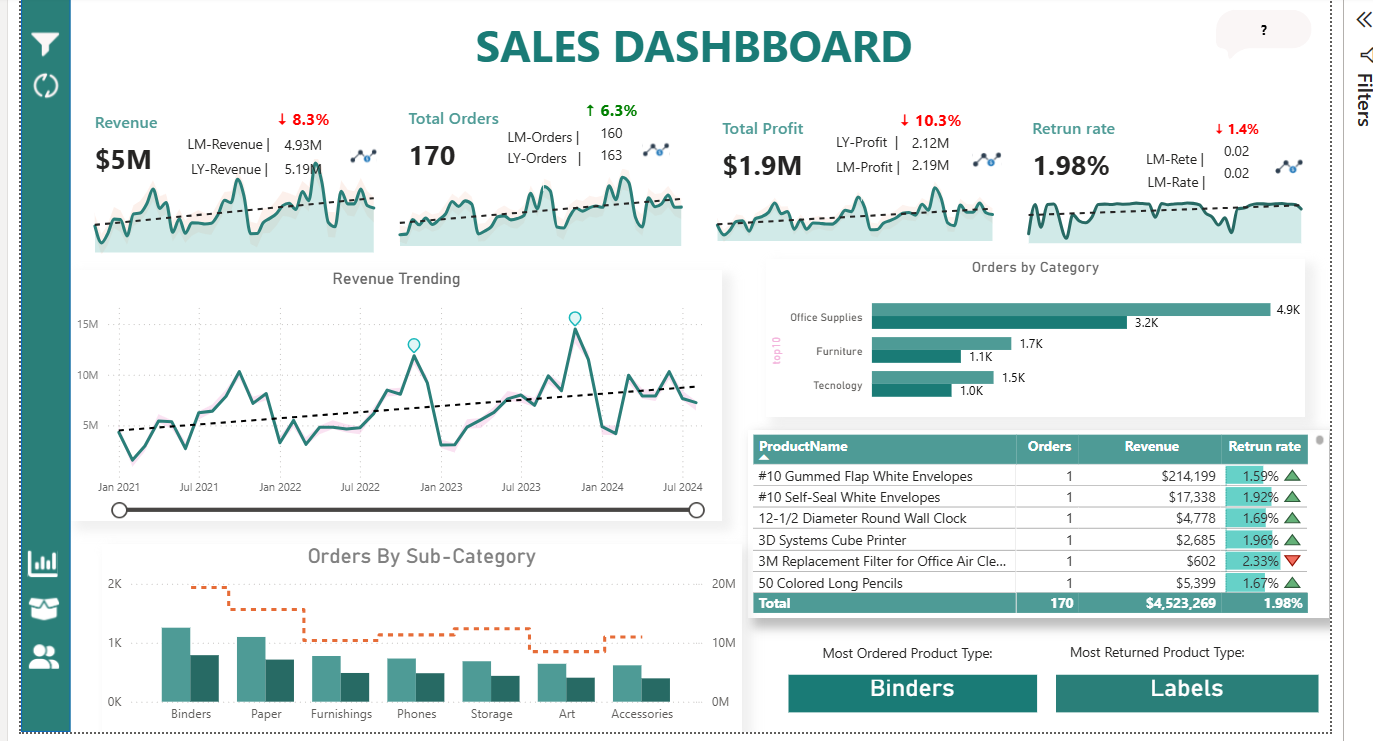

The dashboard page shown, as its layout file describes it:
{"tool":"powerbi","page":{"name":"Dashboard","canvas":[1280,720],"ordinal":0},"visuals":[{"type":"group","id":"g1","title":"Group 2","box":[356.2,83.2,305.4,167.7],"z":0,"group":"g6"},{"type":"group","id":"g2","title":"Group 1","box":[55,88,306.9,168.6],"z":0,"group":"g4"},{"type":"group","id":"g3","title":"Group 3","box":[666.1,92.9,307.8,152.8],"z":0,"group":"g7"},{"type":"lineChart","fields":{"Category":["Calender Lookup.Date Hierarchy.Start of Month"],"Y":["Measure Table.Total Revenue"]},"box":[57.9,146.1,302.9,110.5],"z":0,"group":"g2"},{"type":"lineChart","fields":{"Category":["Calender Lookup.Date Hierarchy.Start of Month"],"Y":["Measure Table.Total Orders"]},"box":[356.2,156.5,305.4,94.3],"z":0,"group":"g1"},{"type":"lineChart","fields":{"Category":["Calender Lookup.Date Hierarchy.Start of Month"],"Y":["Measure Table.Total Profit"]},"box":[666.1,157.5,299.2,88.1],"z":0,"group":"g3"},{"type":"lineChart","fields":{"Category":["Calender Lookup.Date Hierarchy.Start of Month"],"Y":["Measure Table.Retrun rate"]},"box":[971.1,171.8,296.7,77],"z":0,"group":"g5"},{"type":"lineClusteredColumnComboChart","title":"Orders By Sub-Category","fields":{"Category":["Product Sub-Categories  Lookup Table.SubcategoryName"],"Y":["Measure Table.Total Orders","Measure Table.LY-Orders"],"Y2":["Measure Table.Total Profit"]},"box":[79.4,535,625.6,185],"z":0},{"type":"actionButton","box":[2.9,536.7,46.2,37.5],"z":0,"group":"g8"},{"type":"cardVisual","fields":{"Data":["Measure Table.Orders"]},"box":[362.8,83.2,298.6,114],"z":1000,"group":"g1"},{"type":"cardVisual","fields":{"Data":["Measure Table.Total Revenue"]},"box":[55,88,306.9,111.7],"z":1000,"group":"g2"},{"type":"cardVisual","fields":{"Data":["Measure Table.Total Profit"]},"box":[668.2,92.9,305.7,113.7],"z":1000,"group":"g3"},{"type":"cardVisual","fields":{"Data":["Measure Table.Retrun rate"]},"box":[971.9,100.5,300.4,88.1],"z":1000,"group":"g5"},{"type":"textbox","box":[792.4,128.4,105.2,39.1],"z":1000,"group":"g7"},{"type":"textbox","box":[471.2,144.4,110.1,40.4],"z":1000,"group":"g6"},{"type":"textbox","box":[161.2,155.1,110.1,37.9],"z":1000,"group":"g4"},{"type":"lineChart","title":"Revenue  Trending","fields":{"Y":["Measure Table.Total Revenue"],"Category":["Calender Lookup.Start of Month.Variation.Date Hierarchy.Year","Calender Lookup.Start of Month.Variation.Date Hierarchy.Quarter","Calender Lookup.Start of Month.Variation.Date Hierarchy.Month","Calender Lookup.Start of Month.Variation.Date Hierarchy.Day"]},"box":[49.4,267.6,636.7,245.6],"z":1000},{"type":"actionButton","box":[3.7,580.7,45.6,37.8],"z":1000,"group":"g8"},{"type":"group","id":"g4","title":"Group 5","box":[55,88,306.9,168.8],"z":2000},{"type":"textbox","box":[471.2,123.6,110.1,40.4],"z":2000,"group":"g6"},{"type":"textbox","box":[157.6,130.6,110.1,39.1],"z":2000,"group":"g4"},{"type":"textbox","box":[792.4,152.9,105.2,39.1],"z":2000,"group":"g7"},{"type":"actionButton","box":[3.7,627.4,45.6,37.8],"z":2000,"group":"g8"},{"type":"group","id":"g5","title":"Group 3","box":[971.1,100.5,301.2,148.3],"z":3000},{"type":"group","id":"g6","title":"Group 4","box":[356.2,83.2,305.4,167.6],"z":4000},{"type":"textbox","box":[1096.1,145.2,93.1,28.5],"z":5000},{"type":"group","id":"g7","title":"Group 6","box":[666.1,92.9,307.8,152.8],"z":6000},{"type":"textbox","box":[1097.3,167.6,89.4,37.2],"z":7000},{"type":"clusteredBarChart","title":" Orders by Category","fields":{"Category":["Product Categories lookup table.CategoryName"],"Y":["Measure Table.Total Orders","Measure Table.LY-Orders"]},"box":[728.6,256.9,527.5,155.2],"z":8000},{"type":"textbox","box":[779.4,628.5,185.2,32.9],"z":9000},{"type":"textbox","box":[1020.9,627.1,193.5,34.3],"z":10000},{"type":"card","fields":{"Values":["Min(Product Sub-Categories  Lookup Table.SubcategoryName)"]},"box":[750.6,664.2,242.9,37],"z":11000},{"type":"card","fields":{"Values":["Min(Product Sub-Categories  Lookup Table.SubcategoryName)"]},"box":[1012.7,664.2,256.6,37],"z":12000},{"type":"shape","box":[0,0,48.4,719.9],"z":13000},{"type":"pivotTable","fields":{"Values":["Measure Table.Total Orders","Measure Table.Total Revenue","Measure Table.Retrun rate"],"Rows":["Product lookup.ProductName"]},"box":[712.2,424,568.1,183.9],"z":14000},{"type":"textbox","box":[392.5,13.7,553,79.6],"z":15000},{"type":"actionButton","box":[317.9,139.4,45.2,34.2],"z":17000},{"type":"actionButton","box":[604.1,133.3,35.5,34.2],"z":18000},{"type":"actionButton","box":[926.4,142,48.5,36.4],"z":20000},{"type":"actionButton","box":[1222.8,149.2,40.4,35.5],"z":22000},{"type":"actionButton","box":[1168.6,13,93.8,51.9],"z":24000},{"type":"actionButton","box":[6.1,25.7,35.5,42.8],"z":26000},{"type":"group","id":"g8","title":"Navigation Buttons","box":[2.9,536.7,46.2,127],"z":28000},{"type":"actionButton","box":[6.1,68.5,36.7,37.9],"z":29000}]}

Visuals, with their boxes on the page's 1280x720 design canvas (x1, y1, x2, y2). These are canvas units, not pixel positions in the 1373x741 screenshot, which may show the page scaled, cropped or inside an application window:
"Group 2" group: {"left": 356, "top": 83, "right": 662, "bottom": 251}
"Group 1" group: {"left": 55, "top": 88, "right": 362, "bottom": 257}
"Group 3" group: {"left": 666, "top": 93, "right": 974, "bottom": 246}
lineChart - Calender Lookup.Date Hierarchy.Start of Month x Measure Table.Total Revenue: {"left": 58, "top": 146, "right": 361, "bottom": 257}
lineChart - Calender Lookup.Date Hierarchy.Start of Month x Measure Table.Total Orders: {"left": 356, "top": 156, "right": 662, "bottom": 251}
lineChart - Calender Lookup.Date Hierarchy.Start of Month x Measure Table.Total Profit: {"left": 666, "top": 158, "right": 965, "bottom": 246}
lineChart - Calender Lookup.Date Hierarchy.Start of Month x Measure Table.Retrun rate: {"left": 971, "top": 172, "right": 1268, "bottom": 249}
"Orders By Sub-Category" lineClusteredColumnComboChart: {"left": 79, "top": 535, "right": 705, "bottom": 720}
actionButton: {"left": 3, "top": 537, "right": 49, "bottom": 574}
cardVisual - Measure Table.Orders: {"left": 363, "top": 83, "right": 661, "bottom": 197}
cardVisual - Measure Table.Total Revenue: {"left": 55, "top": 88, "right": 362, "bottom": 200}
cardVisual - Measure Table.Total Profit: {"left": 668, "top": 93, "right": 974, "bottom": 207}
cardVisual - Measure Table.Retrun rate: {"left": 972, "top": 100, "right": 1272, "bottom": 189}
textbox: {"left": 792, "top": 128, "right": 898, "bottom": 168}
textbox: {"left": 471, "top": 144, "right": 581, "bottom": 185}
textbox: {"left": 161, "top": 155, "right": 271, "bottom": 193}
"Revenue  Trending" lineChart: {"left": 49, "top": 268, "right": 686, "bottom": 513}
actionButton: {"left": 4, "top": 581, "right": 49, "bottom": 618}
"Group 5" group: {"left": 55, "top": 88, "right": 362, "bottom": 257}
textbox: {"left": 471, "top": 124, "right": 581, "bottom": 164}
textbox: {"left": 158, "top": 131, "right": 268, "bottom": 170}
textbox: {"left": 792, "top": 153, "right": 898, "bottom": 192}
actionButton: {"left": 4, "top": 627, "right": 49, "bottom": 665}
"Group 3" group: {"left": 971, "top": 100, "right": 1272, "bottom": 249}
"Group 4" group: {"left": 356, "top": 83, "right": 662, "bottom": 251}
textbox: {"left": 1096, "top": 145, "right": 1189, "bottom": 174}
"Group 6" group: {"left": 666, "top": 93, "right": 974, "bottom": 246}
textbox: {"left": 1097, "top": 168, "right": 1187, "bottom": 205}
" Orders by Category" clusteredBarChart: {"left": 729, "top": 257, "right": 1256, "bottom": 412}
textbox: {"left": 779, "top": 628, "right": 965, "bottom": 661}
textbox: {"left": 1021, "top": 627, "right": 1214, "bottom": 661}
card - Min(Product Sub-Categories  Lookup Table.SubcategoryName): {"left": 751, "top": 664, "right": 994, "bottom": 701}
card - Min(Product Sub-Categories  Lookup Table.SubcategoryName): {"left": 1013, "top": 664, "right": 1269, "bottom": 701}
shape: {"left": 0, "top": 0, "right": 48, "bottom": 720}
pivotTable - Measure Table.Total Orders x Measure Table.Total Revenue: {"left": 712, "top": 424, "right": 1280, "bottom": 608}
textbox: {"left": 392, "top": 14, "right": 946, "bottom": 93}
actionButton: {"left": 318, "top": 139, "right": 363, "bottom": 174}
actionButton: {"left": 604, "top": 133, "right": 640, "bottom": 168}
actionButton: {"left": 926, "top": 142, "right": 975, "bottom": 178}
actionButton: {"left": 1223, "top": 149, "right": 1263, "bottom": 185}
actionButton: {"left": 1169, "top": 13, "right": 1262, "bottom": 65}
actionButton: {"left": 6, "top": 26, "right": 42, "bottom": 68}
"Navigation Buttons" group: {"left": 3, "top": 537, "right": 49, "bottom": 664}
actionButton: {"left": 6, "top": 68, "right": 43, "bottom": 106}
